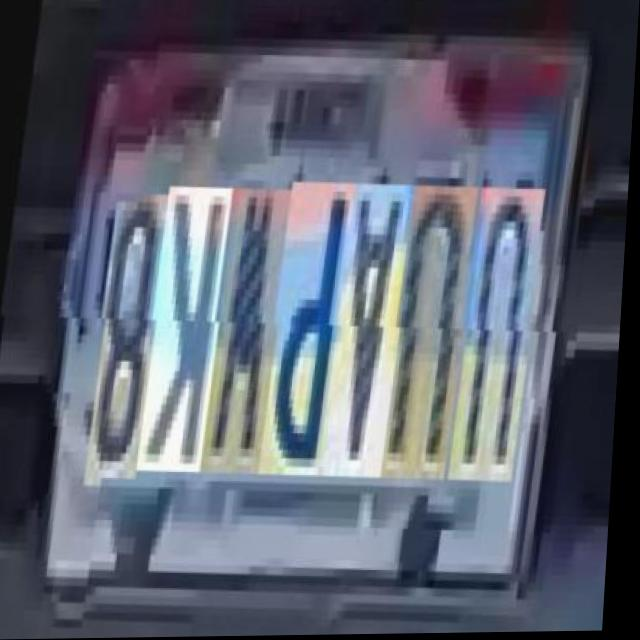8: (83, 197, 165, 485)
a: (319, 189, 410, 483)
k: (133, 191, 227, 478)
p: (256, 186, 351, 482)
u: (446, 191, 541, 486), (379, 189, 473, 485)
w: (197, 193, 286, 480)
